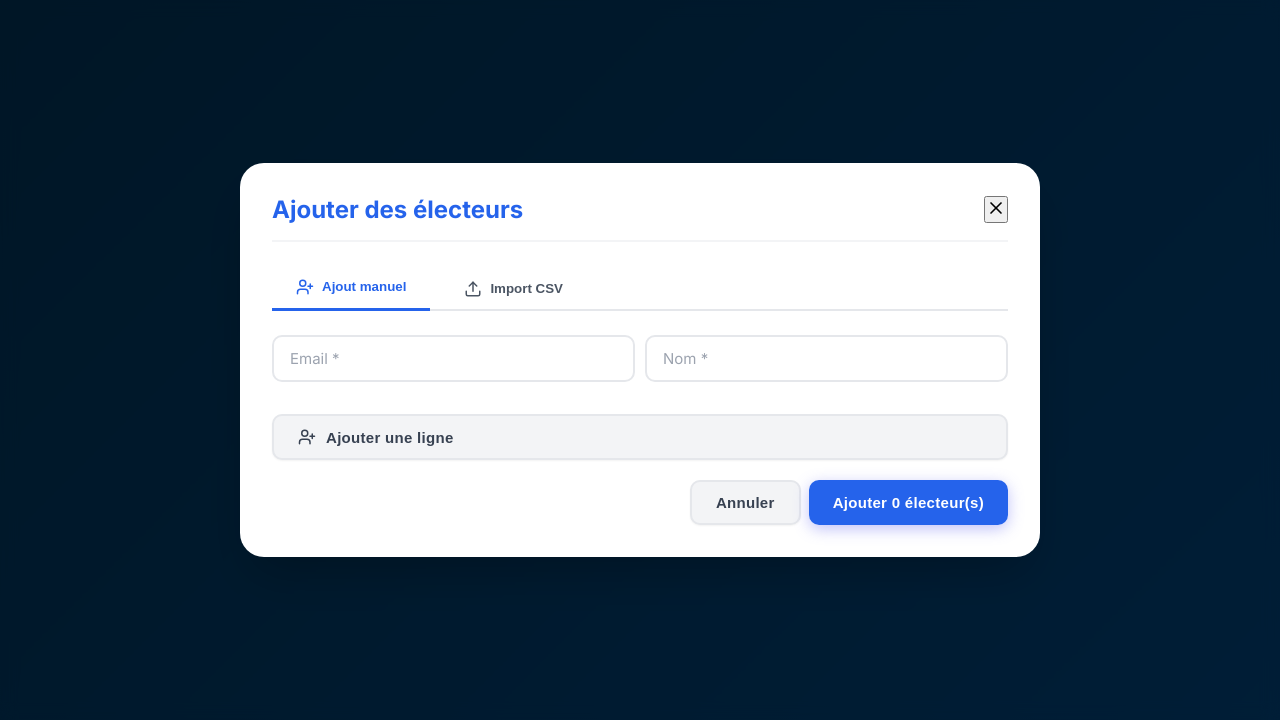
Test: AddVotersModal Component › Manual Mode - Voter Management › devrait permettre d'ajouter plusieurs lignes
Click the button "Ajouter une ligne" at (390, 437), box [272,414,1008,460]
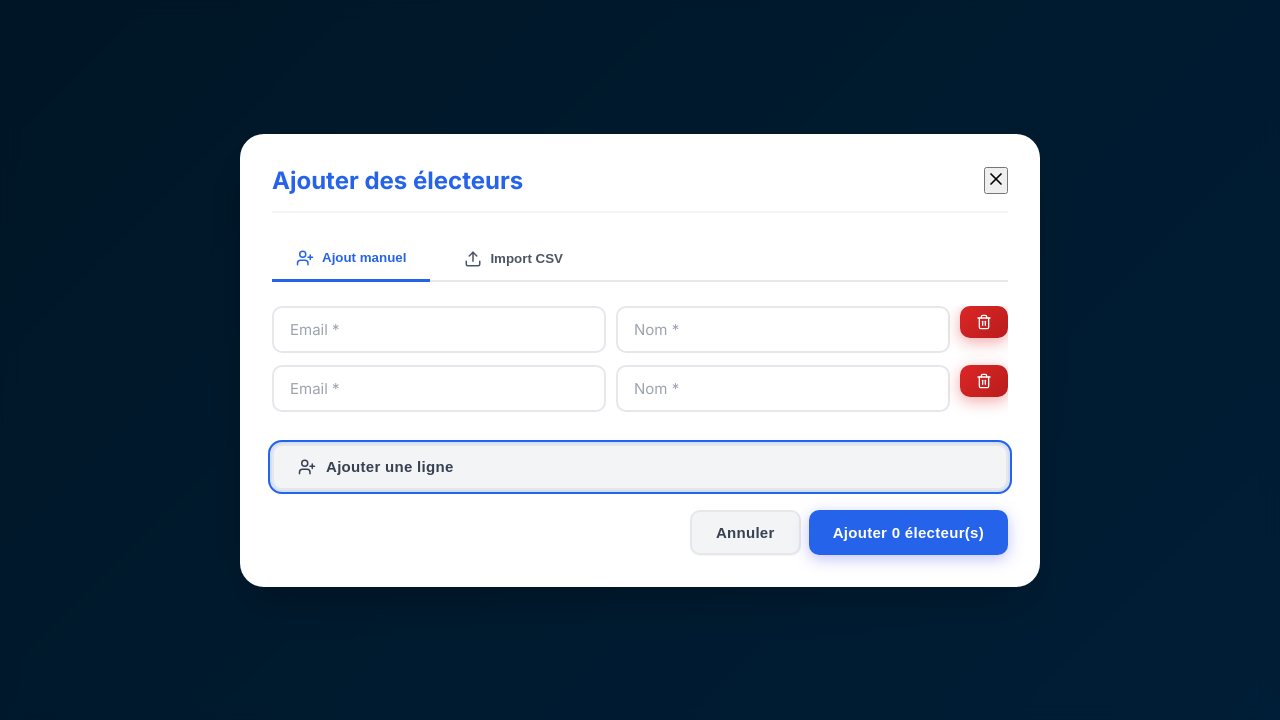
Click the button "Ajouter une ligne" at (390, 466), box [272,444,1008,490]
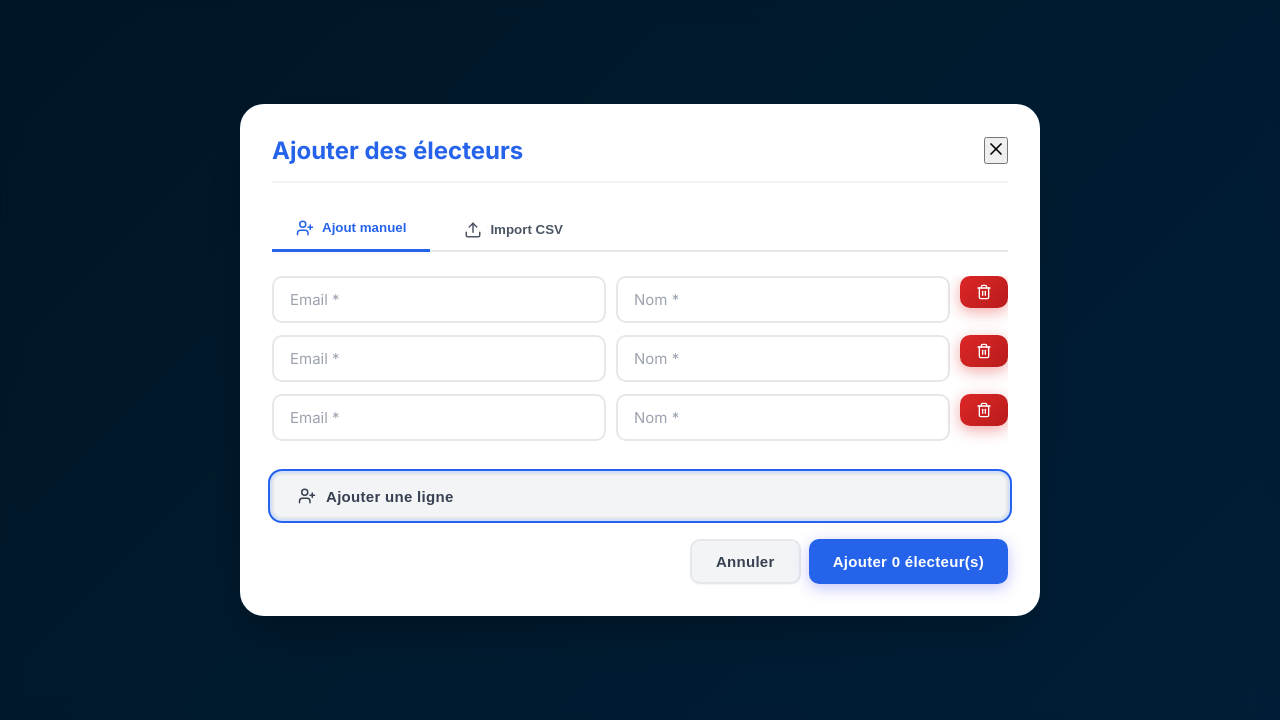
Click the button "Ajouter une ligne" at (390, 496), box [272,473,1008,519]
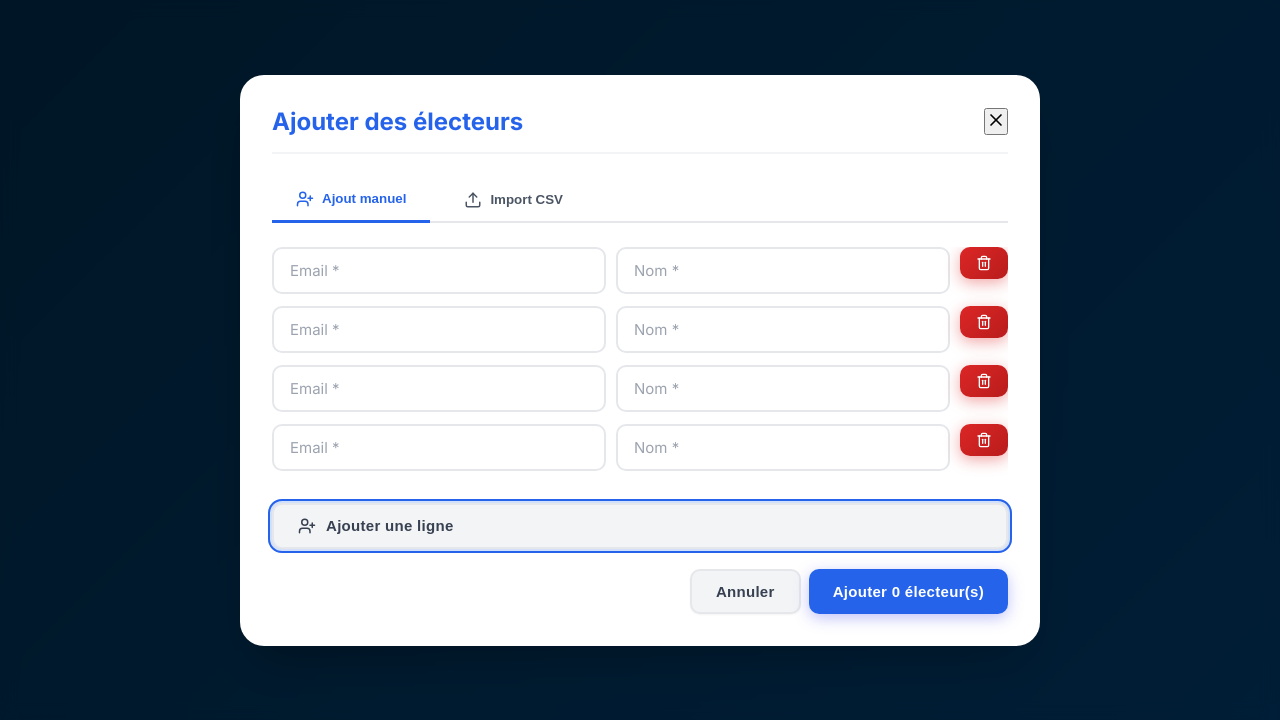
Expected: the number of fields with placeholder "Email *" is 4, [272,246,606,294]; [272,306,606,352]; [272,364,606,412]; [272,424,606,470]
